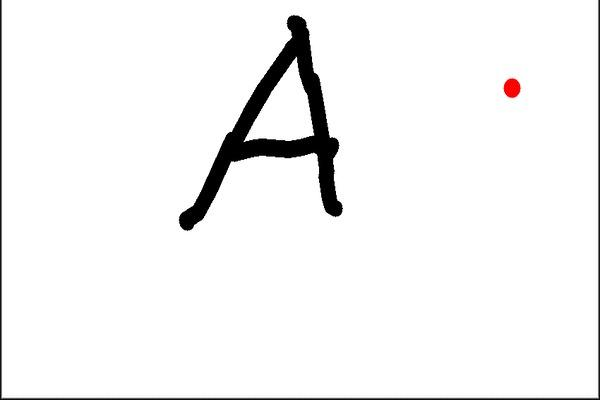A: (165, 9, 352, 229)
